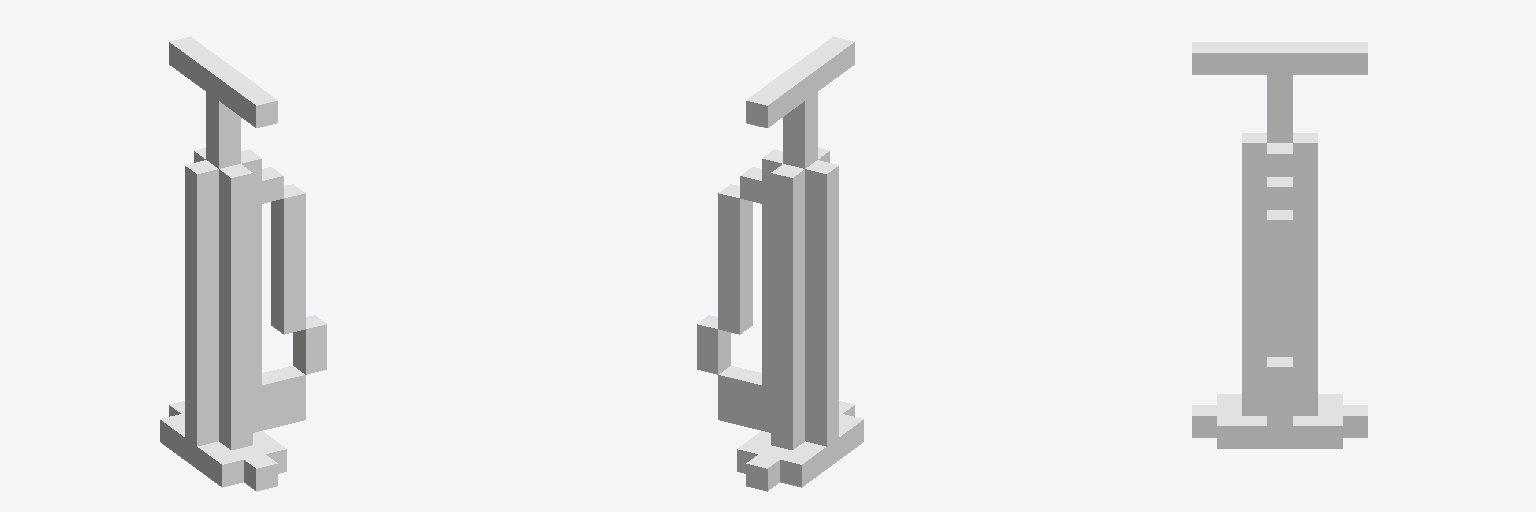
The model's file is airpump.obj.
The picture shows the model from 3 angles: view 1: azimuth 30°, elevation 25°; view 2: azimuth 150°, elevation 25°; view 3: azimuth 270°, elevation 25°; orthographic projection.
Parts seen in each view (by area): view 1: ObjObject; view 2: ObjObject; view 3: ObjObject.
Boxes of the visible parts, box(x1,y1,x2,y2) form: ObjObject: box(160, 36, 326, 491); ObjObject: box(697, 36, 863, 491); ObjObject: box(1192, 42, 1367, 448).
Bounding box in the file's own units: 0.6 × 1.7 × 0.7.